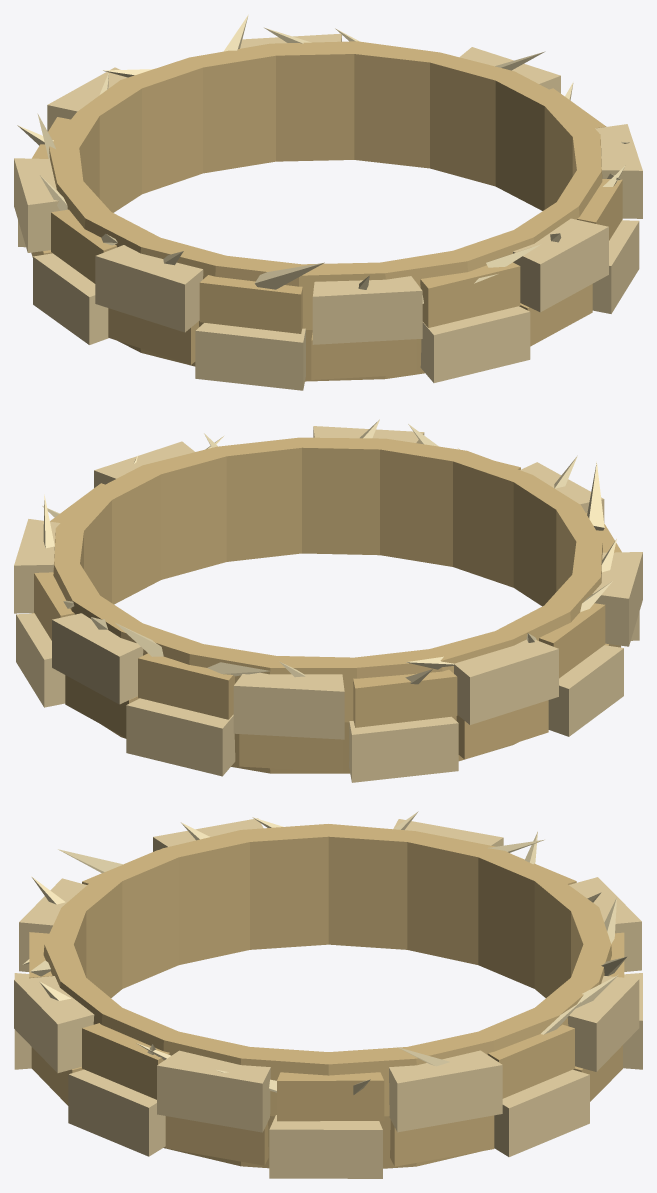
Rendered from StrawBand.fbx.
3 views of the same model, one above another, from view 1: azimuth 30°, elevation 25°; view 2: azimuth 150°, elevation 25°; view 3: azimuth 270°, elevation 25° (orthographic). The views are drawn at different scales.
Parts seen in each view (by area): view 1: StrawBand.Weave, StrawBand.Strands, StrawBand.Spikes; view 2: StrawBand.Weave, StrawBand.Strands, StrawBand.Spikes; view 3: StrawBand.Weave, StrawBand.Strands, StrawBand.Spikes.
Part boxes in pixels (<box>): StrawBand.Weave: <box>31,41,622,381</box>; StrawBand.Strands: <box>14,33,642,390</box>; StrawBand.Spikes: <box>17,14,629,303</box>; StrawBand.Weave: <box>32,437,621,773</box>; StrawBand.Strands: <box>14,426,642,782</box>; StrawBand.Spikes: <box>42,419,616,684</box>; StrawBand.Weave: <box>29,824,624,1168</box>; StrawBand.Strands: <box>14,818,642,1178</box>; StrawBand.Spikes: <box>23,811,626,1094</box>.
Size of the model in its own units: 1.59 by 0.3774 by 1.58.
